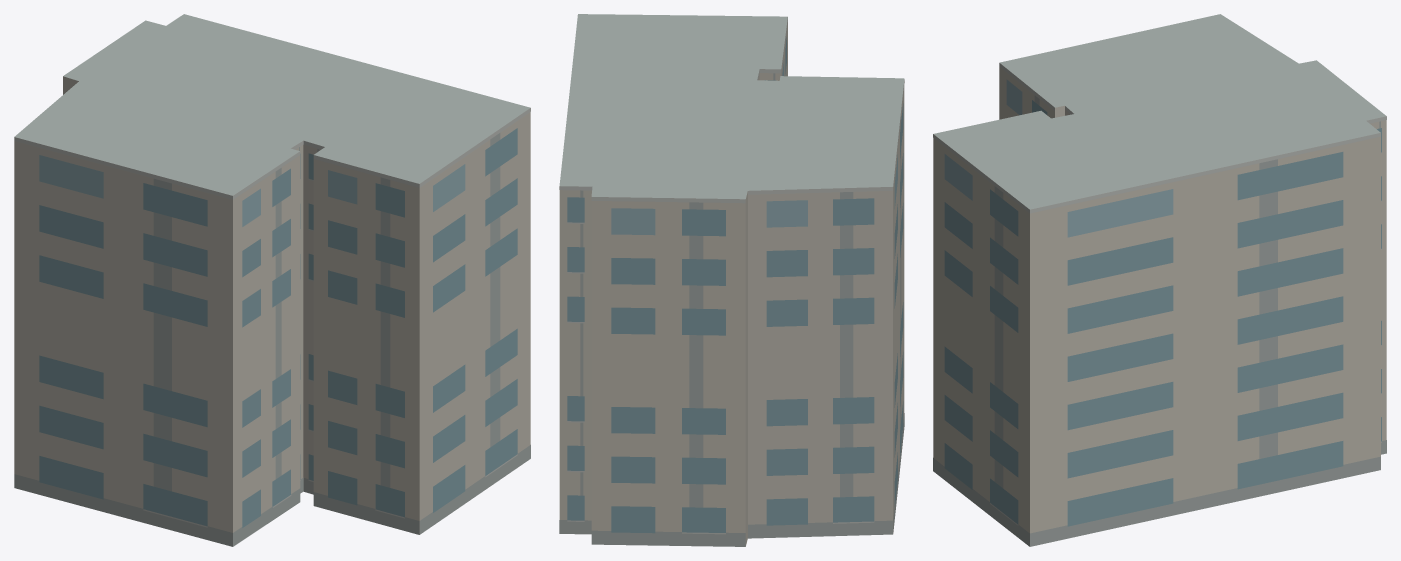
Rendered from survey-upis-32738002.glb.
3 renders of one model, left to right at view 1: azimuth 30°, elevation 25°; view 2: azimuth 150°, elevation 25°; view 3: azimuth 270°, elevation 25°, orthographic. The views are drawn at different scales.
Visible parts, largest first — view 1: survey-upis-32738002.tmp; view 2: survey-upis-32738002.tmp; view 3: survey-upis-32738002.tmp.
Boxes of the visible parts, x1,y1,x2,y2 form: survey-upis-32738002.tmp: [14, 14, 530, 546]; survey-upis-32738002.tmp: [559, 14, 904, 546]; survey-upis-32738002.tmp: [933, 14, 1386, 546].
Size of the model in its own units: 26.58 by 21.35 by 26.04.
